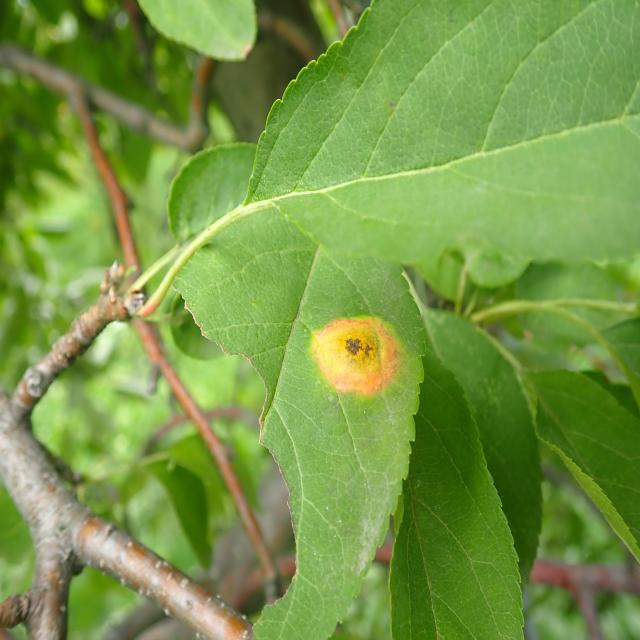rust: (176, 232, 428, 640)
